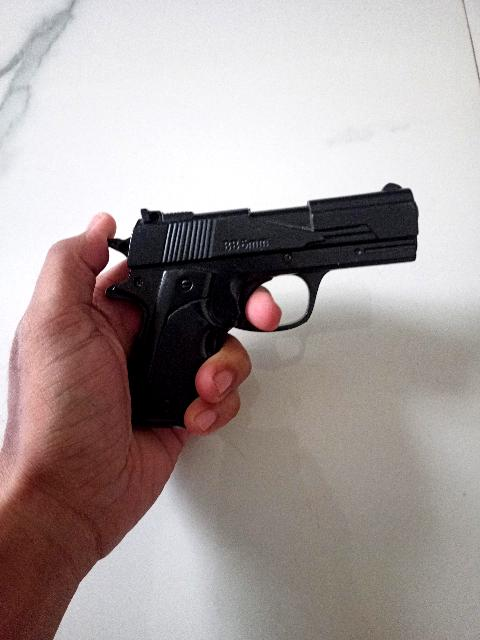pistol: (109, 180, 421, 430)
